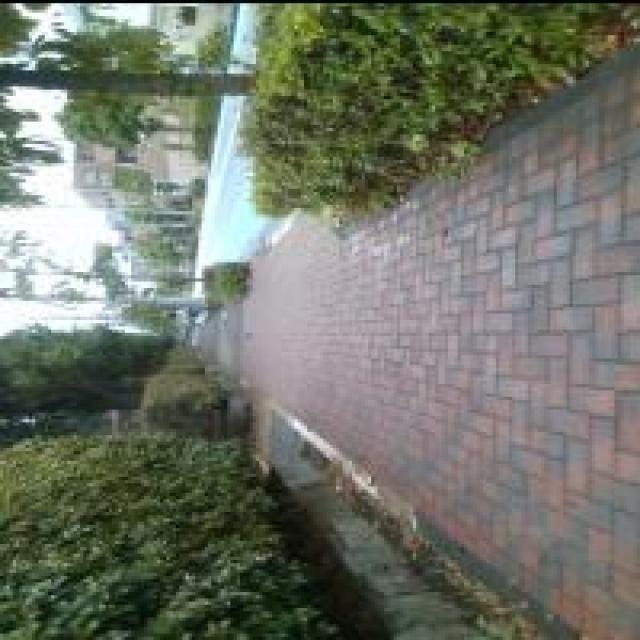Obstacle: (236, 3, 639, 221), (0, 70, 253, 95), (202, 251, 249, 306)
Road: (196, 95, 268, 276), (230, 5, 257, 60)
Sidewalk: (201, 49, 639, 639)
